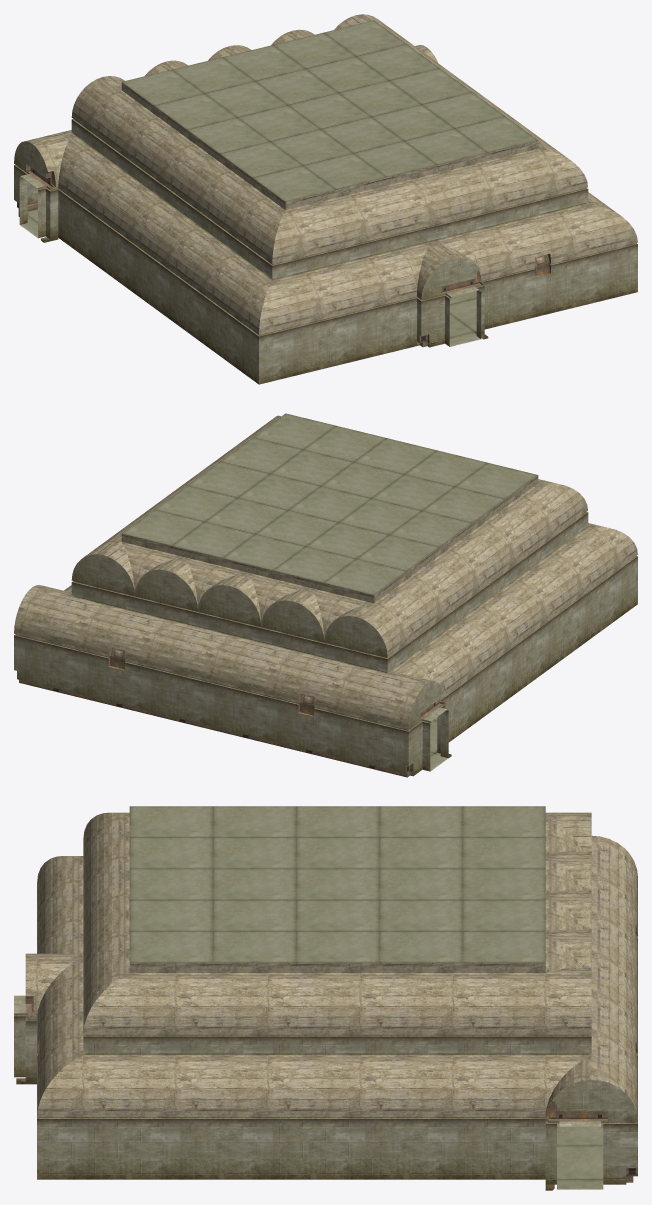
Rendered from poi_all_bunker_allum_mine_r28_medroom_mesh_r28.fbx.
3 renders of one model, top to bottom at view 1: azimuth 30°, elevation 25°; view 2: azimuth 150°, elevation 25°; view 3: azimuth 270°, elevation 25°, orthographic. The views are drawn at different scales.
Visible parts, largest first — view 1: mesh_node; view 2: mesh_node; view 3: mesh_node.
Part boxes in pixels (x1,y1,x2,y2): mesh_node: (14,14,637,384); mesh_node: (14,413,637,777); mesh_node: (14,806,637,1190).
Bounding box in the file's own units: 26 × 8.6 × 27.
